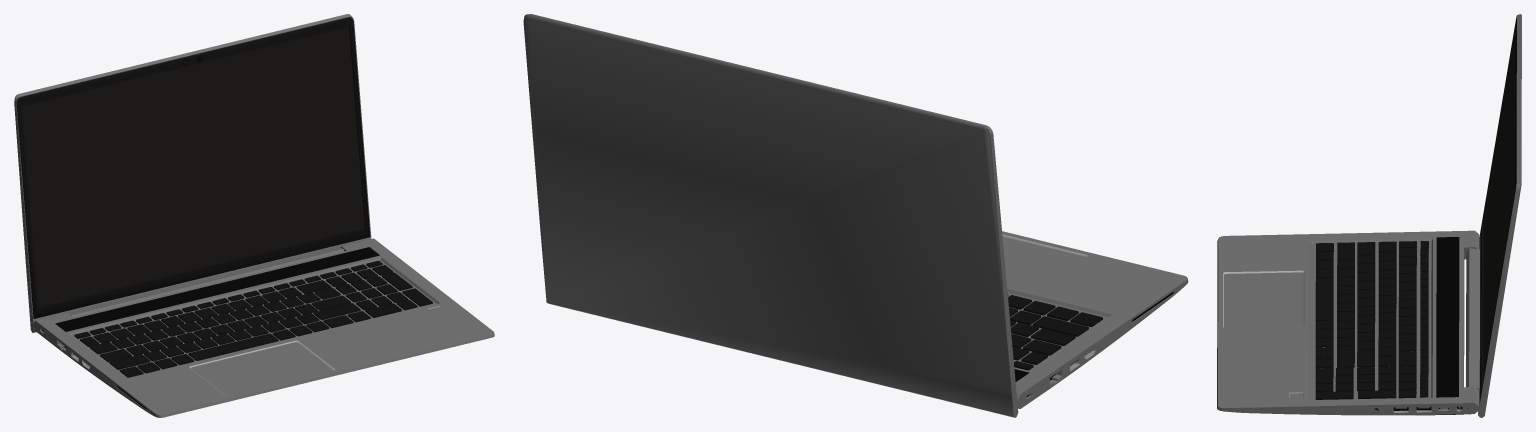
The model's file is Laptop (1).fbx.
3 views of the same model, side by side, from view 1: azimuth 30°, elevation 25°; view 2: azimuth 150°, elevation 25°; view 3: azimuth 270°, elevation 25° (orthographic). The views are drawn at different scales.
Visible parts, largest first — view 1: lid, body; view 2: lid, body; view 3: body, lid.
Part boxes in pixels (<box>): lid: <box>14,14,371,332</box>; body: <box>33,238,494,417</box>; lid: <box>523,14,1018,417</box>; body: <box>1002,231,1188,408</box>; body: <box>1217,230,1479,415</box>; lid: <box>1466,14,1521,417</box>.
Size of the model in its own units: 91.92 by 58.95 by 68.73.
